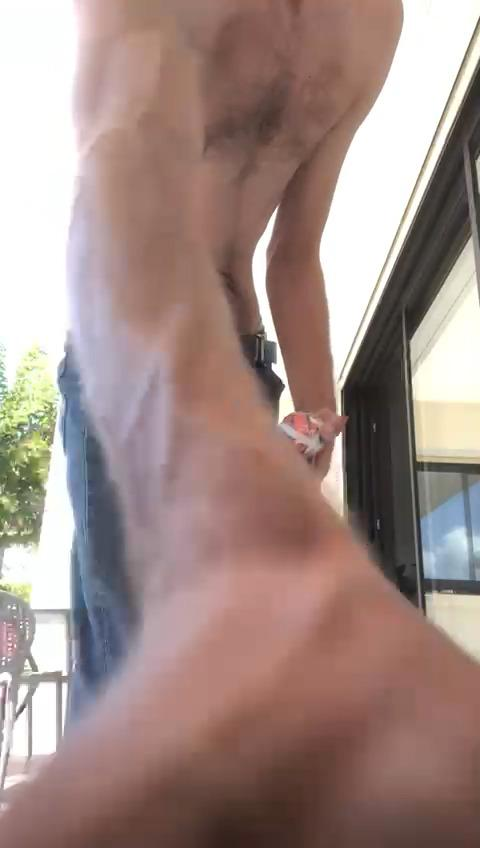kendama_ball: (279, 411, 327, 459)
